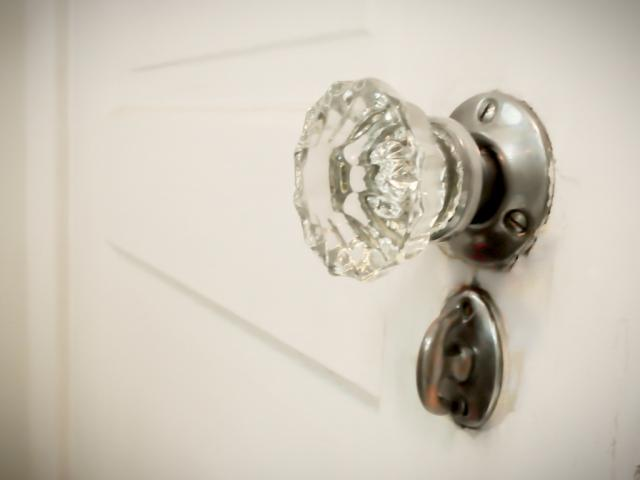Door-handle: (292, 74, 554, 284)
